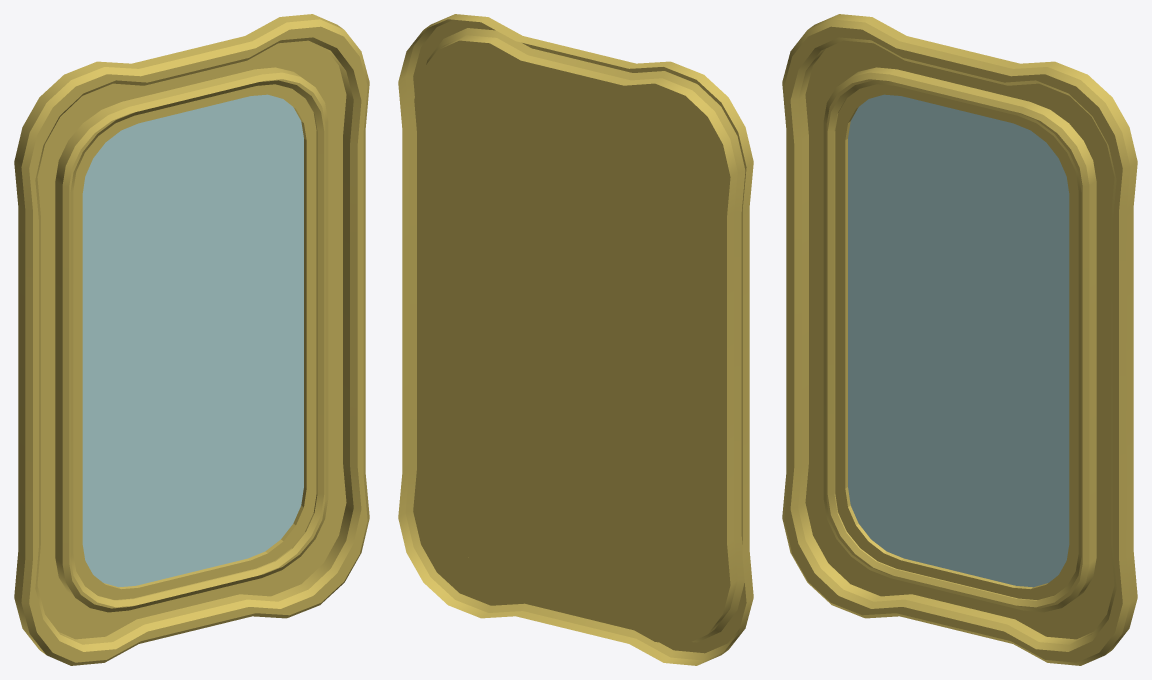
File: Cuadro_Modelo_2.fbx
The picture shows the model from 3 angles, left to right: view 1: azimuth 30°, elevation 25°; view 2: azimuth 150°, elevation 25°; view 3: azimuth 330°, elevation 25°; orthographic projection.
Parts seen in each view (by area): view 1: Cuadro_Modelo2; view 2: Cuadro_Modelo2; view 3: Cuadro_Modelo2.
Part boxes in pixels (<box>): Cuadro_Modelo2: <box>14,14,369,665</box>; Cuadro_Modelo2: <box>398,14,753,665</box>; Cuadro_Modelo2: <box>782,14,1137,665</box>.
Size of the model in its own units: 2.18 by 3.56 by 0.1085.
